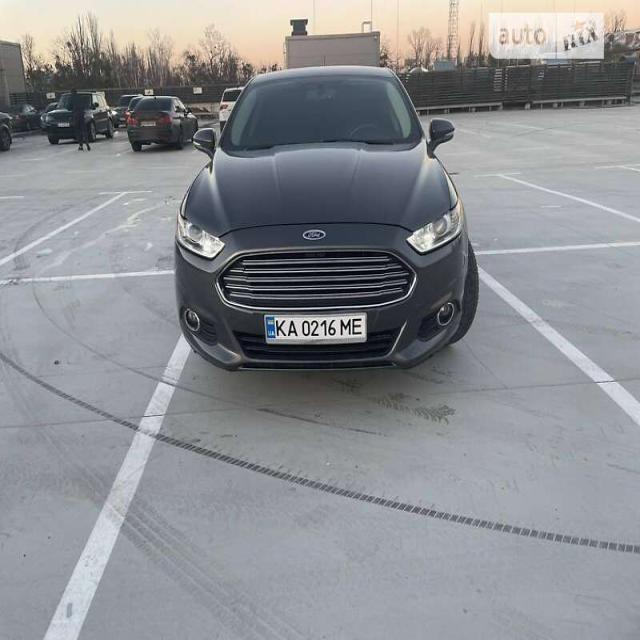plate: (262, 303, 374, 357)
